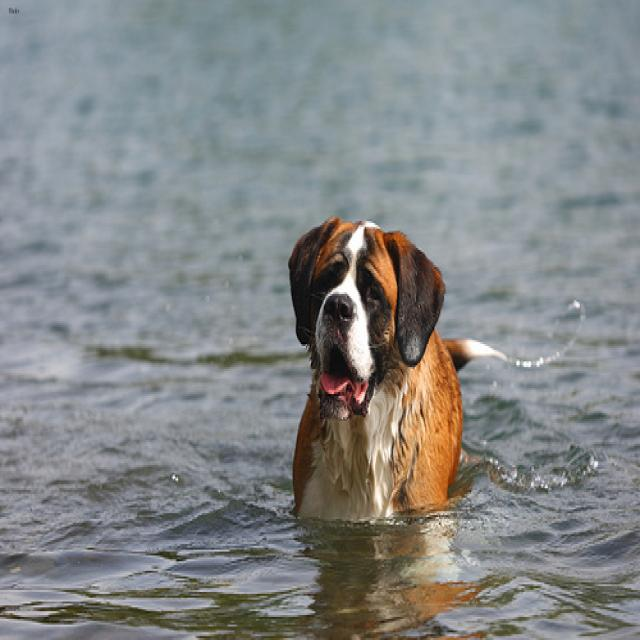dog-saint_bernard: (279, 209, 507, 534)
